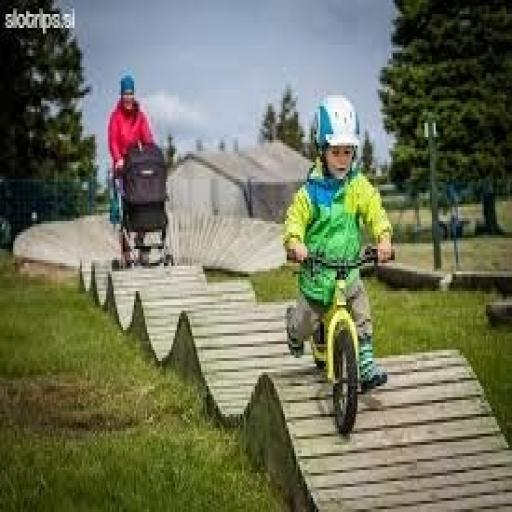cycling: (281, 92, 397, 394), (104, 70, 160, 271)
